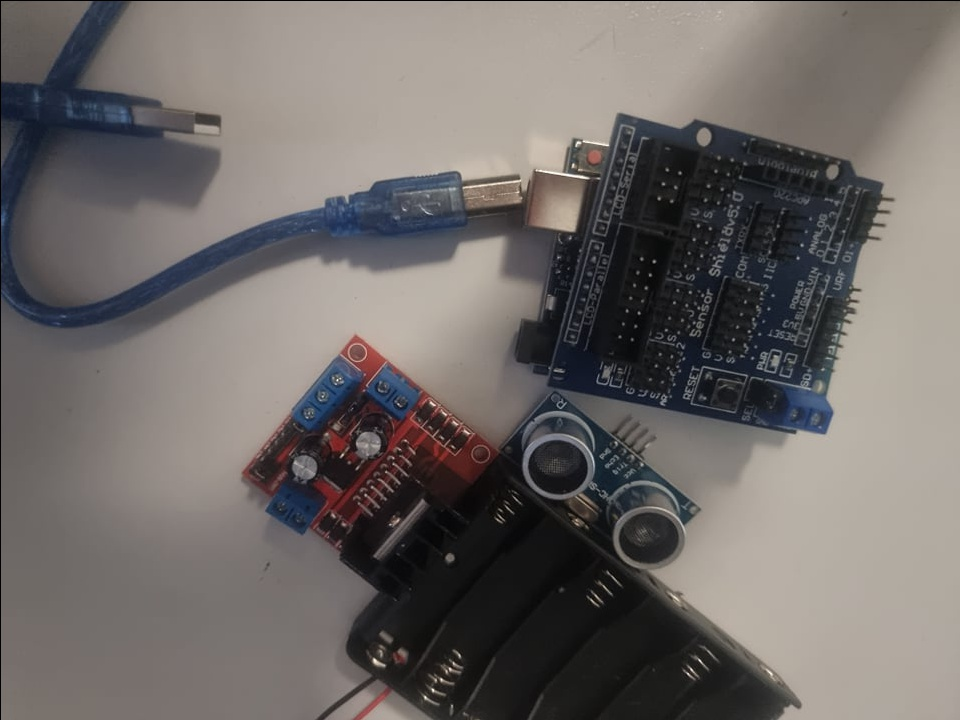5V EXPANSION: (590, 124, 887, 435)
BATTERY BOX: (351, 470, 801, 719)
MOTOR: (236, 341, 480, 592)
SENSOR: (512, 404, 701, 570)
UNO R3: (511, 116, 606, 377)
